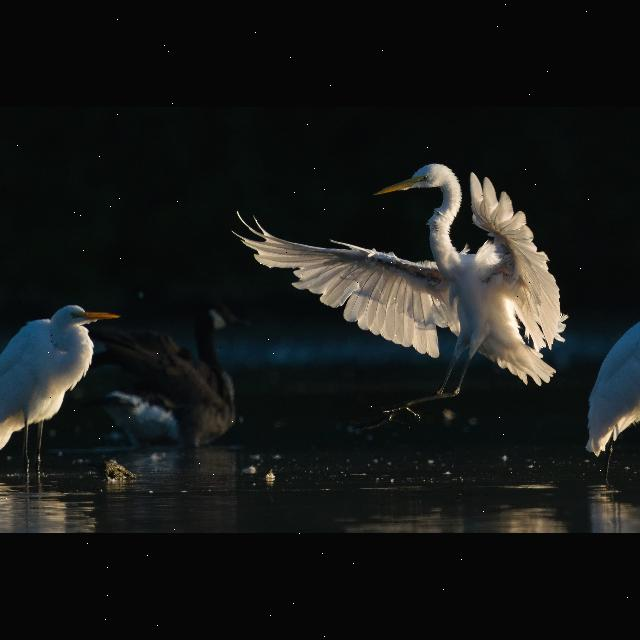egret: (225, 158, 568, 408), (0, 288, 126, 482)
